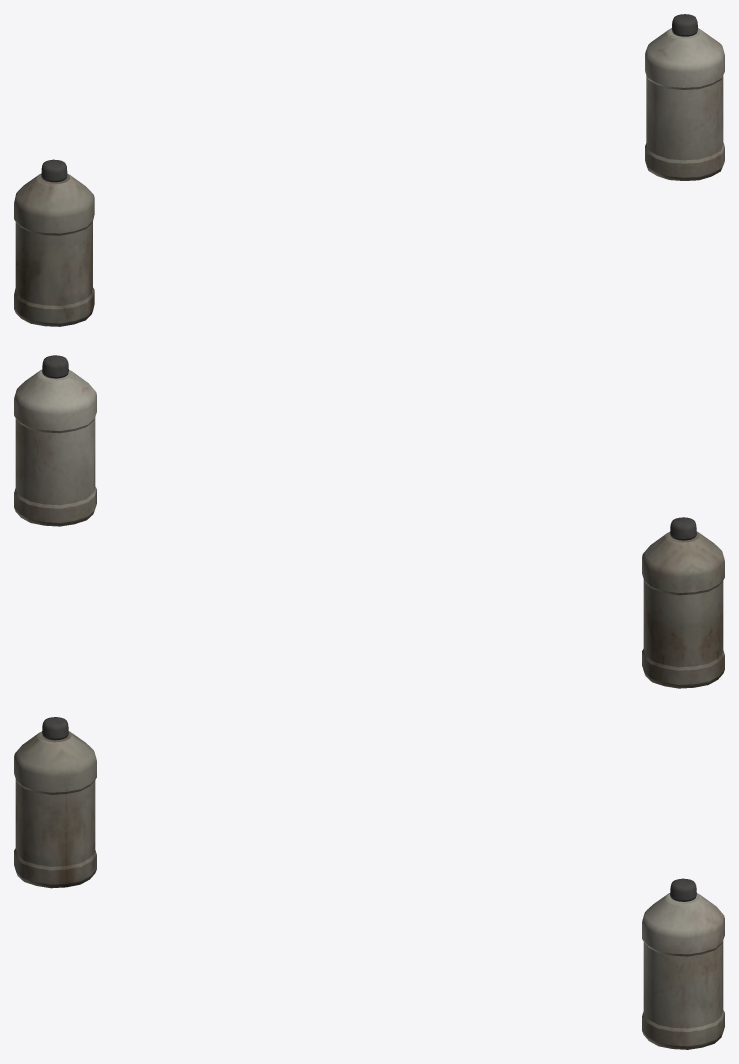
File: prop_medium_000.glb
The picture shows the model from 3 angles, top to bottom: view 1: azimuth 30°, elevation 25°; view 2: azimuth 150°, elevation 25°; view 3: azimuth 330°, elevation 25°; orthographic projection. The views are drawn at different scales.
Visible parts, largest first — view 1: Building_12_010; view 2: Building_12_010; view 3: Building_12_010.
Part boxes in pixels (box(x1,y1,x2,y2)): Building_12_010: box(14, 14, 724, 326); Building_12_010: box(14, 355, 724, 688); Building_12_010: box(14, 717, 724, 1049).
Size of the model in its own units: 1.2 by 0.246 by 0.1467.
1 material, 1 textured.
